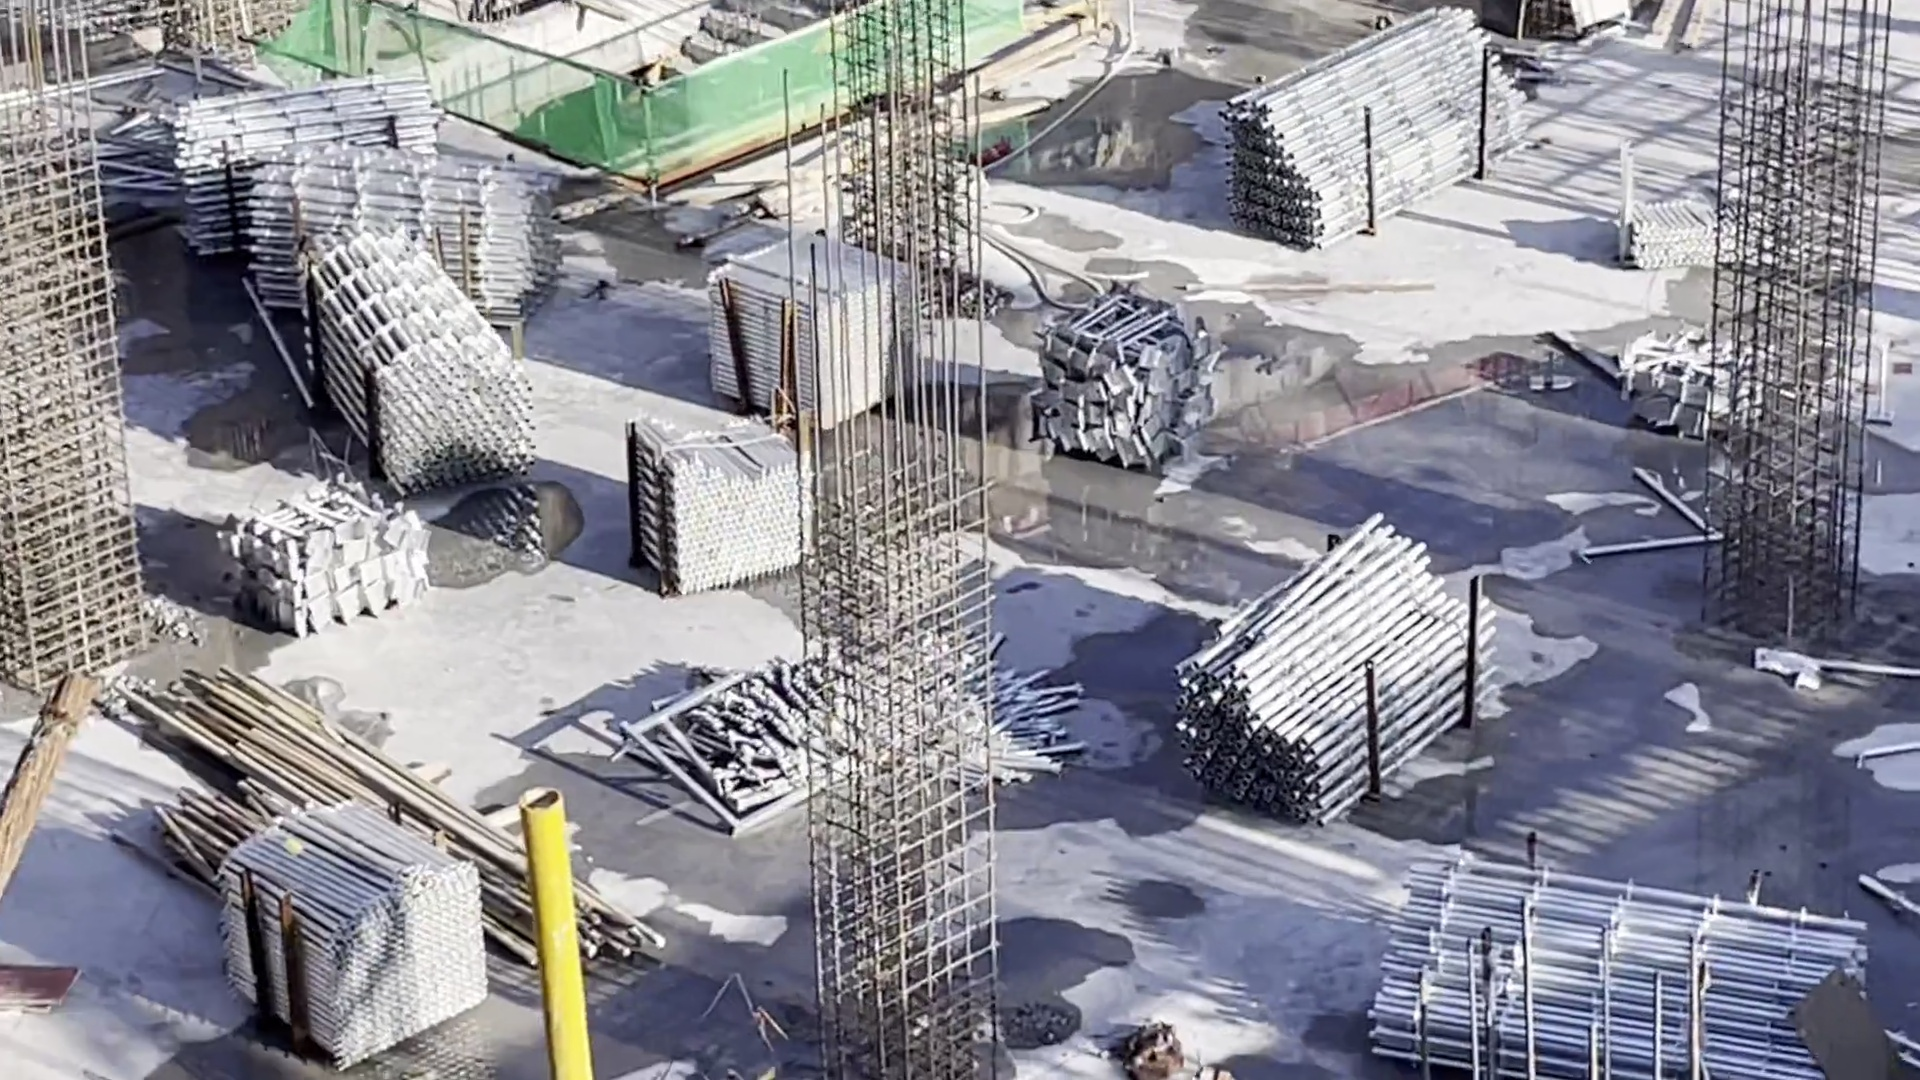scaffold: (1403, 862, 1836, 1069), (1207, 556, 1509, 804), (676, 632, 1072, 791), (214, 837, 489, 1059), (1255, 37, 1503, 223), (179, 79, 433, 239), (309, 260, 491, 475), (251, 171, 549, 287), (723, 249, 902, 390), (644, 423, 793, 560), (1623, 167, 1741, 278)
